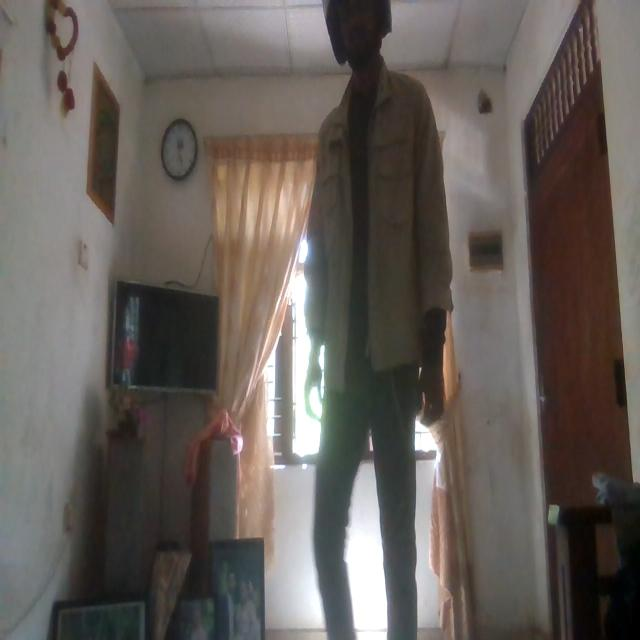Helmet_Wearer: (314, 0, 406, 82)
Jacket_Wearer: (309, 74, 449, 389)
Person: (300, 0, 460, 640)
